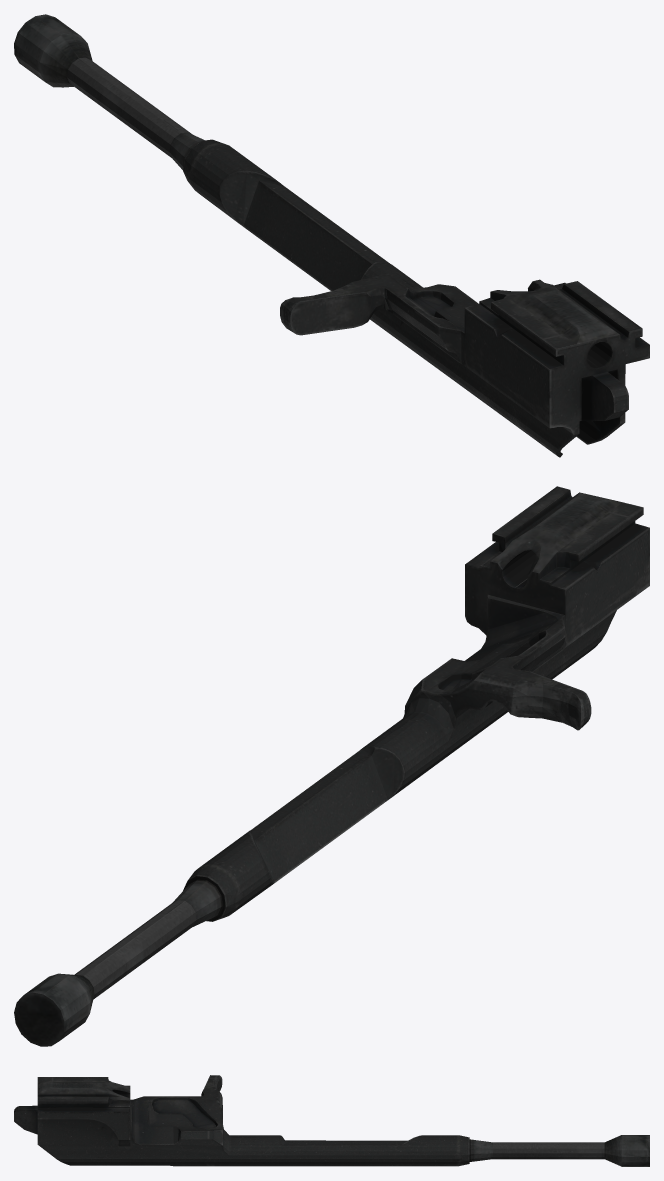
The picture shows the model from 3 angles, top to bottom: view 1: azimuth 30°, elevation 25°; view 2: azimuth 150°, elevation 25°; view 3: azimuth 270°, elevation 25°; orthographic projection. The views are drawn at different scales.
Parts seen in each view (by area): view 1: TW_674fe9a75e51f1c47c04ec23_PZ_Import; view 2: TW_674fe9a75e51f1c47c04ec23_PZ_Import; view 3: TW_674fe9a75e51f1c47c04ec23_PZ_Import.
Boxes of the visible parts, x1,y1,x2,y2 form: TW_674fe9a75e51f1c47c04ec23_PZ_Import: (14,14,649,457); TW_674fe9a75e51f1c47c04ec23_PZ_Import: (14,486,649,1046); TW_674fe9a75e51f1c47c04ec23_PZ_Import: (14,1075,649,1166).
Size of the model in its own units: 0.0342 by 0.1718 by 0.0237.
Materials: 1 (1 with a texture image).
